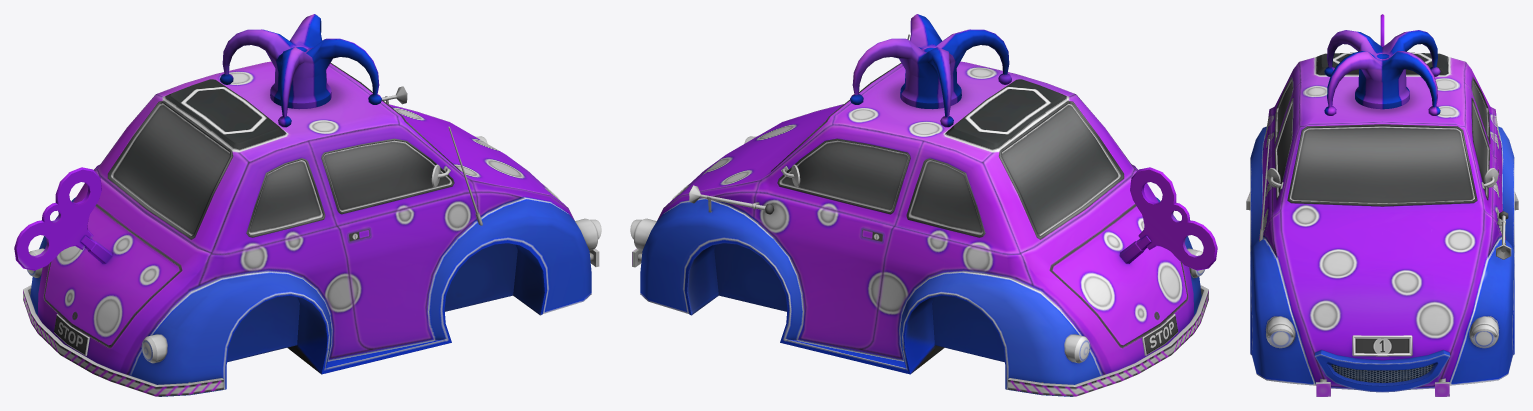
File: f1_car_clown_09.dae
3 renders of one model, left to right at view 1: azimuth 30°, elevation 25°; view 2: azimuth 150°, elevation 25°; view 3: azimuth 270°, elevation 25°, orthographic. The views are drawn at different scales.
Visible parts, largest first — view 1: car_body; view 2: car_body; view 3: car_body.
Part boxes in pixels (x1,y1,x2,y2): car_body: (14, 14, 601, 396); car_body: (630, 14, 1217, 396); car_body: (1246, 14, 1518, 396).
Bounding box in the file's own units: 0.4024 × 0.1936 × 0.1918.
1 material, 1 textured.
